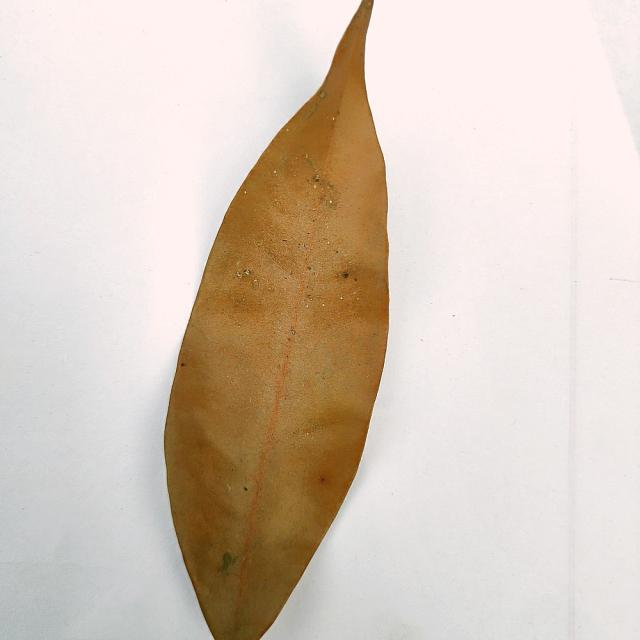Dry_Leaf-Lychee: (162, 0, 390, 639)
